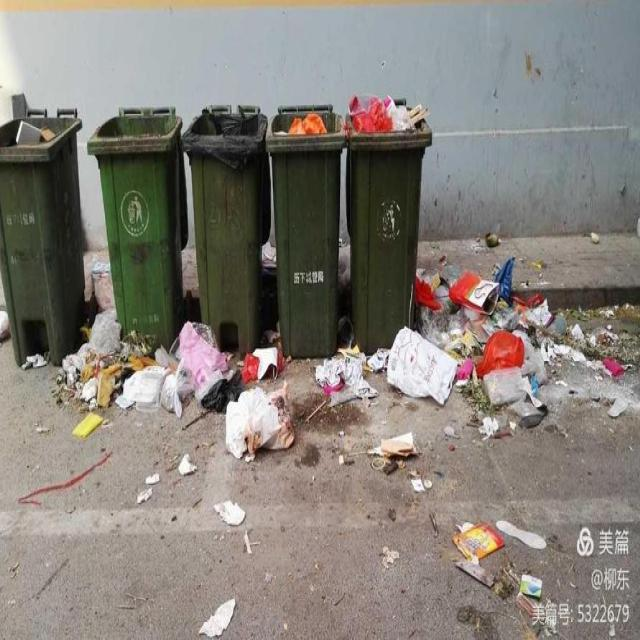garbage: (57, 254, 639, 638)
garbage_bin: (84, 105, 187, 358), (181, 104, 270, 352)
overflow: (346, 94, 431, 350), (0, 108, 82, 364), (264, 103, 344, 350)
